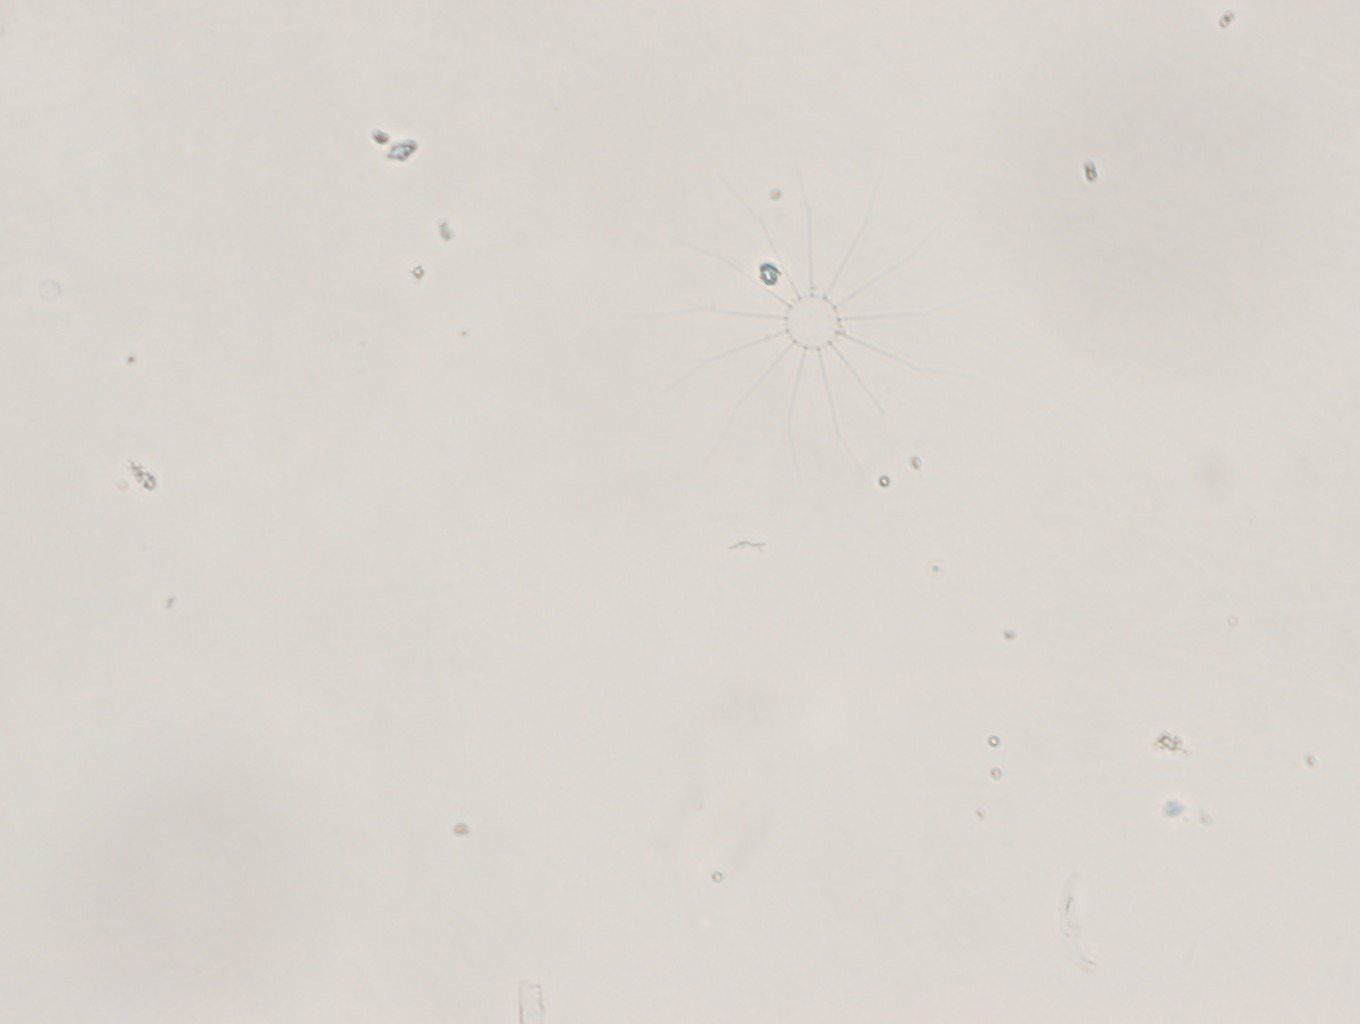bacteriastrum: (689, 191, 962, 457)
